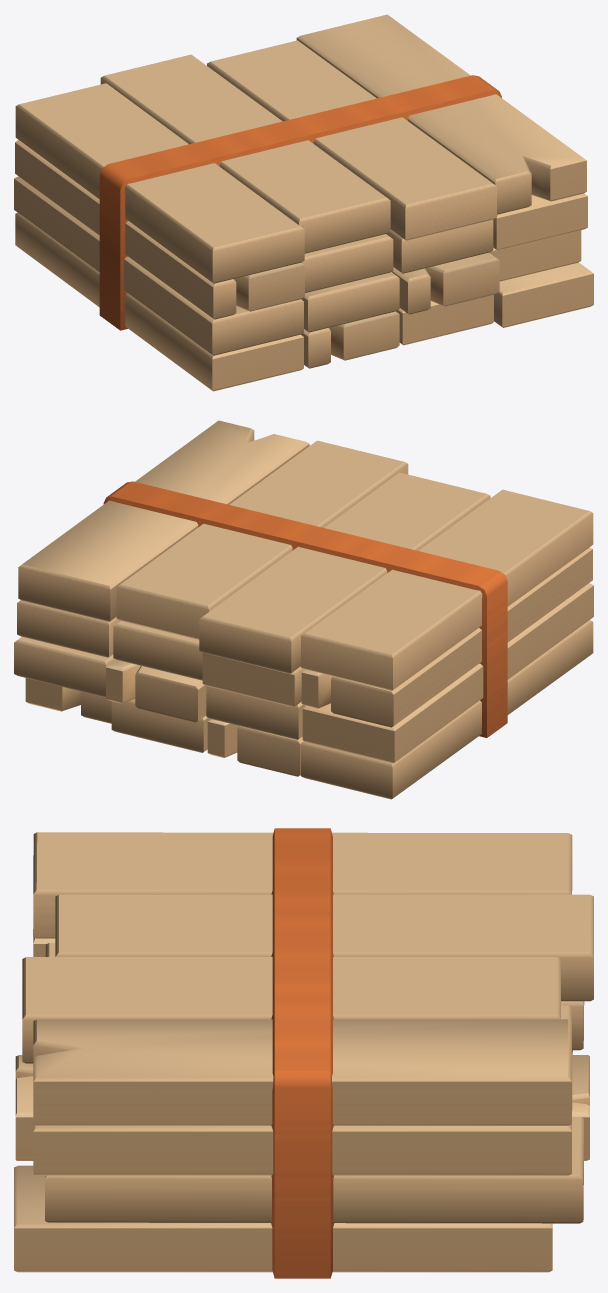
The model's file is Wood_Planks_Stack_Medium.gltf.
The picture shows the model from 3 angles, top to bottom: view 1: azimuth 30°, elevation 25°; view 2: azimuth 150°, elevation 25°; view 3: azimuth 270°, elevation 25°; orthographic projection. The views are drawn at different scales.
Parts seen in each view (by area): view 1: Wood_Planks_Stack_Medium; view 2: Wood_Planks_Stack_Medium; view 3: Wood_Planks_Stack_Medium.
Part boxes in pixels (x1,y1,x2,y2): Wood_Planks_Stack_Medium: (14, 14, 593, 391); Wood_Planks_Stack_Medium: (14, 420, 593, 799); Wood_Planks_Stack_Medium: (14, 828, 593, 1278).
Size of the model in its own units: 1.67 by 0.6232 by 1.62.
1 material, 1 textured.
